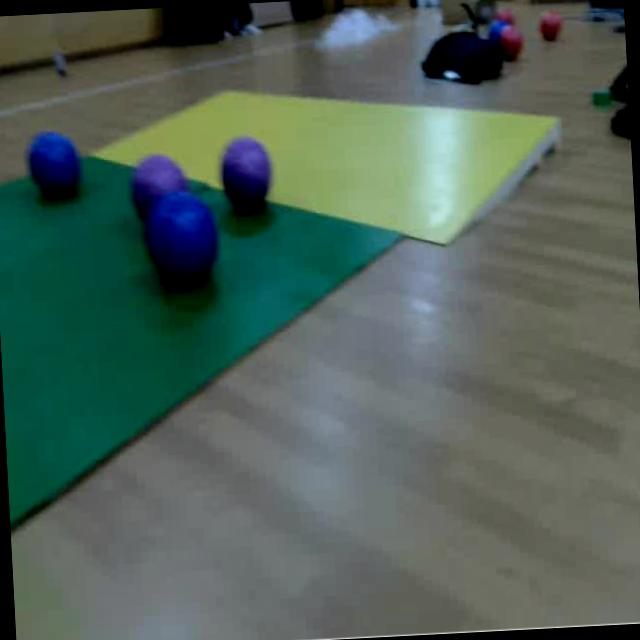blue_ball: (148, 192, 222, 292), (24, 125, 86, 203)
purple_ball: (220, 134, 274, 210), (129, 149, 188, 198)
